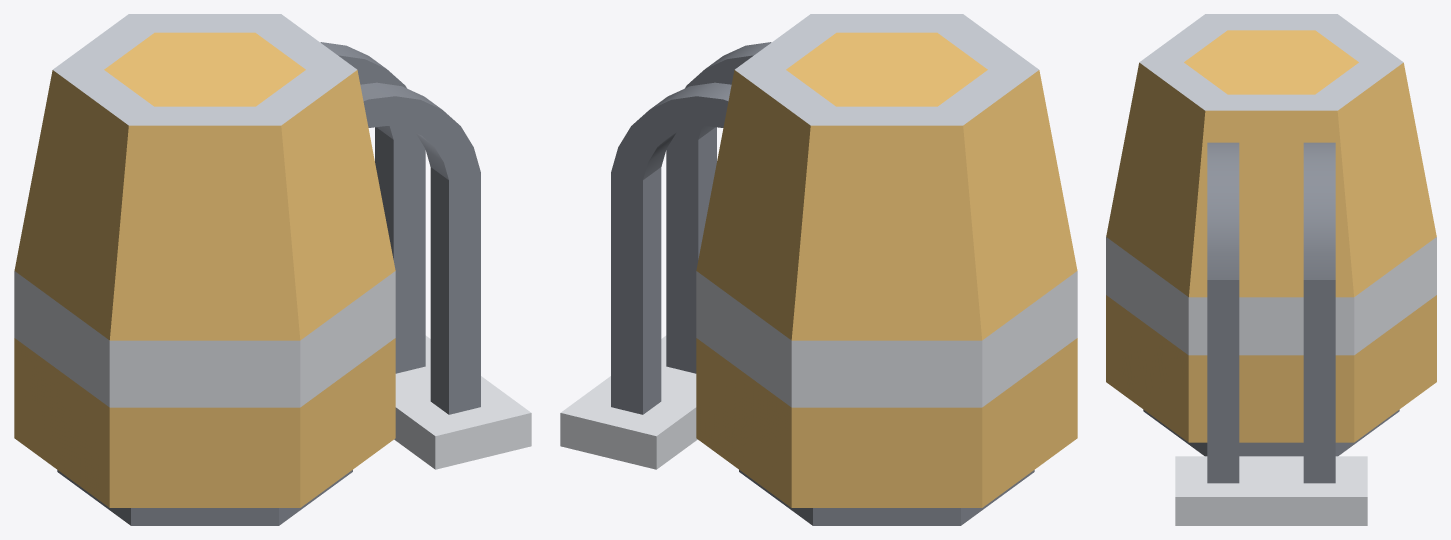
The model's file is machine_barrel.glb.
3 renders of one model, left to right at view 1: azimuth 30°, elevation 25°; view 2: azimuth 150°, elevation 25°; view 3: azimuth 270°, elevation 25°, orthographic. The views are drawn at different scales.
Visible parts, largest first — view 1: machine_barrel; view 2: machine_barrel; view 3: machine_barrel.
Boxes of the visible parts, box(x1,y1,x2,y2) form: machine_barrel: box(14, 14, 531, 525); machine_barrel: box(560, 14, 1077, 525); machine_barrel: box(1106, 14, 1436, 525).
Bounding box in the file's own units: 0.6464 × 0.6 × 0.5155.
